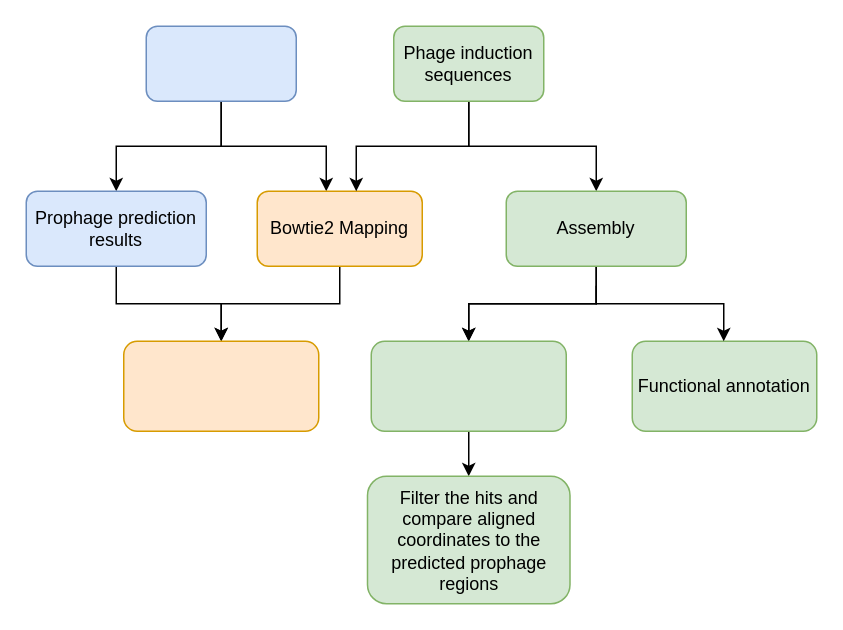
Image size: 843x630. Some labels were removed from this diagram. The shapes that lost their labels are listed below. From the top down, each one's box as (x1, y1, x2, y2) in pixels, then its label:
(145, 25, 296, 101): Genome
(122, 340, 319, 431): Calculate proportion of mapped reads by prophage region
(370, 340, 566, 431): BLASTn alignment to the genome
